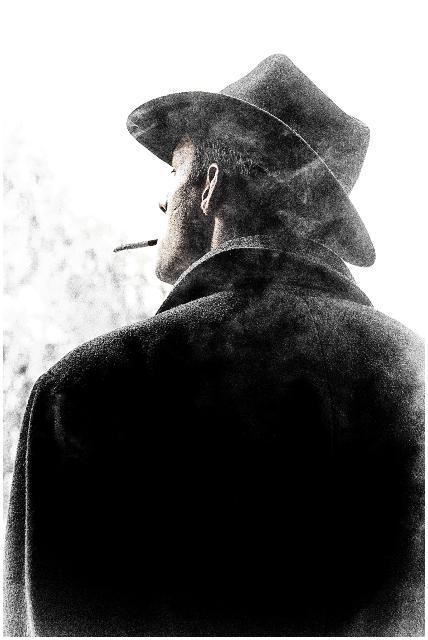Smoking: (107, 227, 161, 255)
